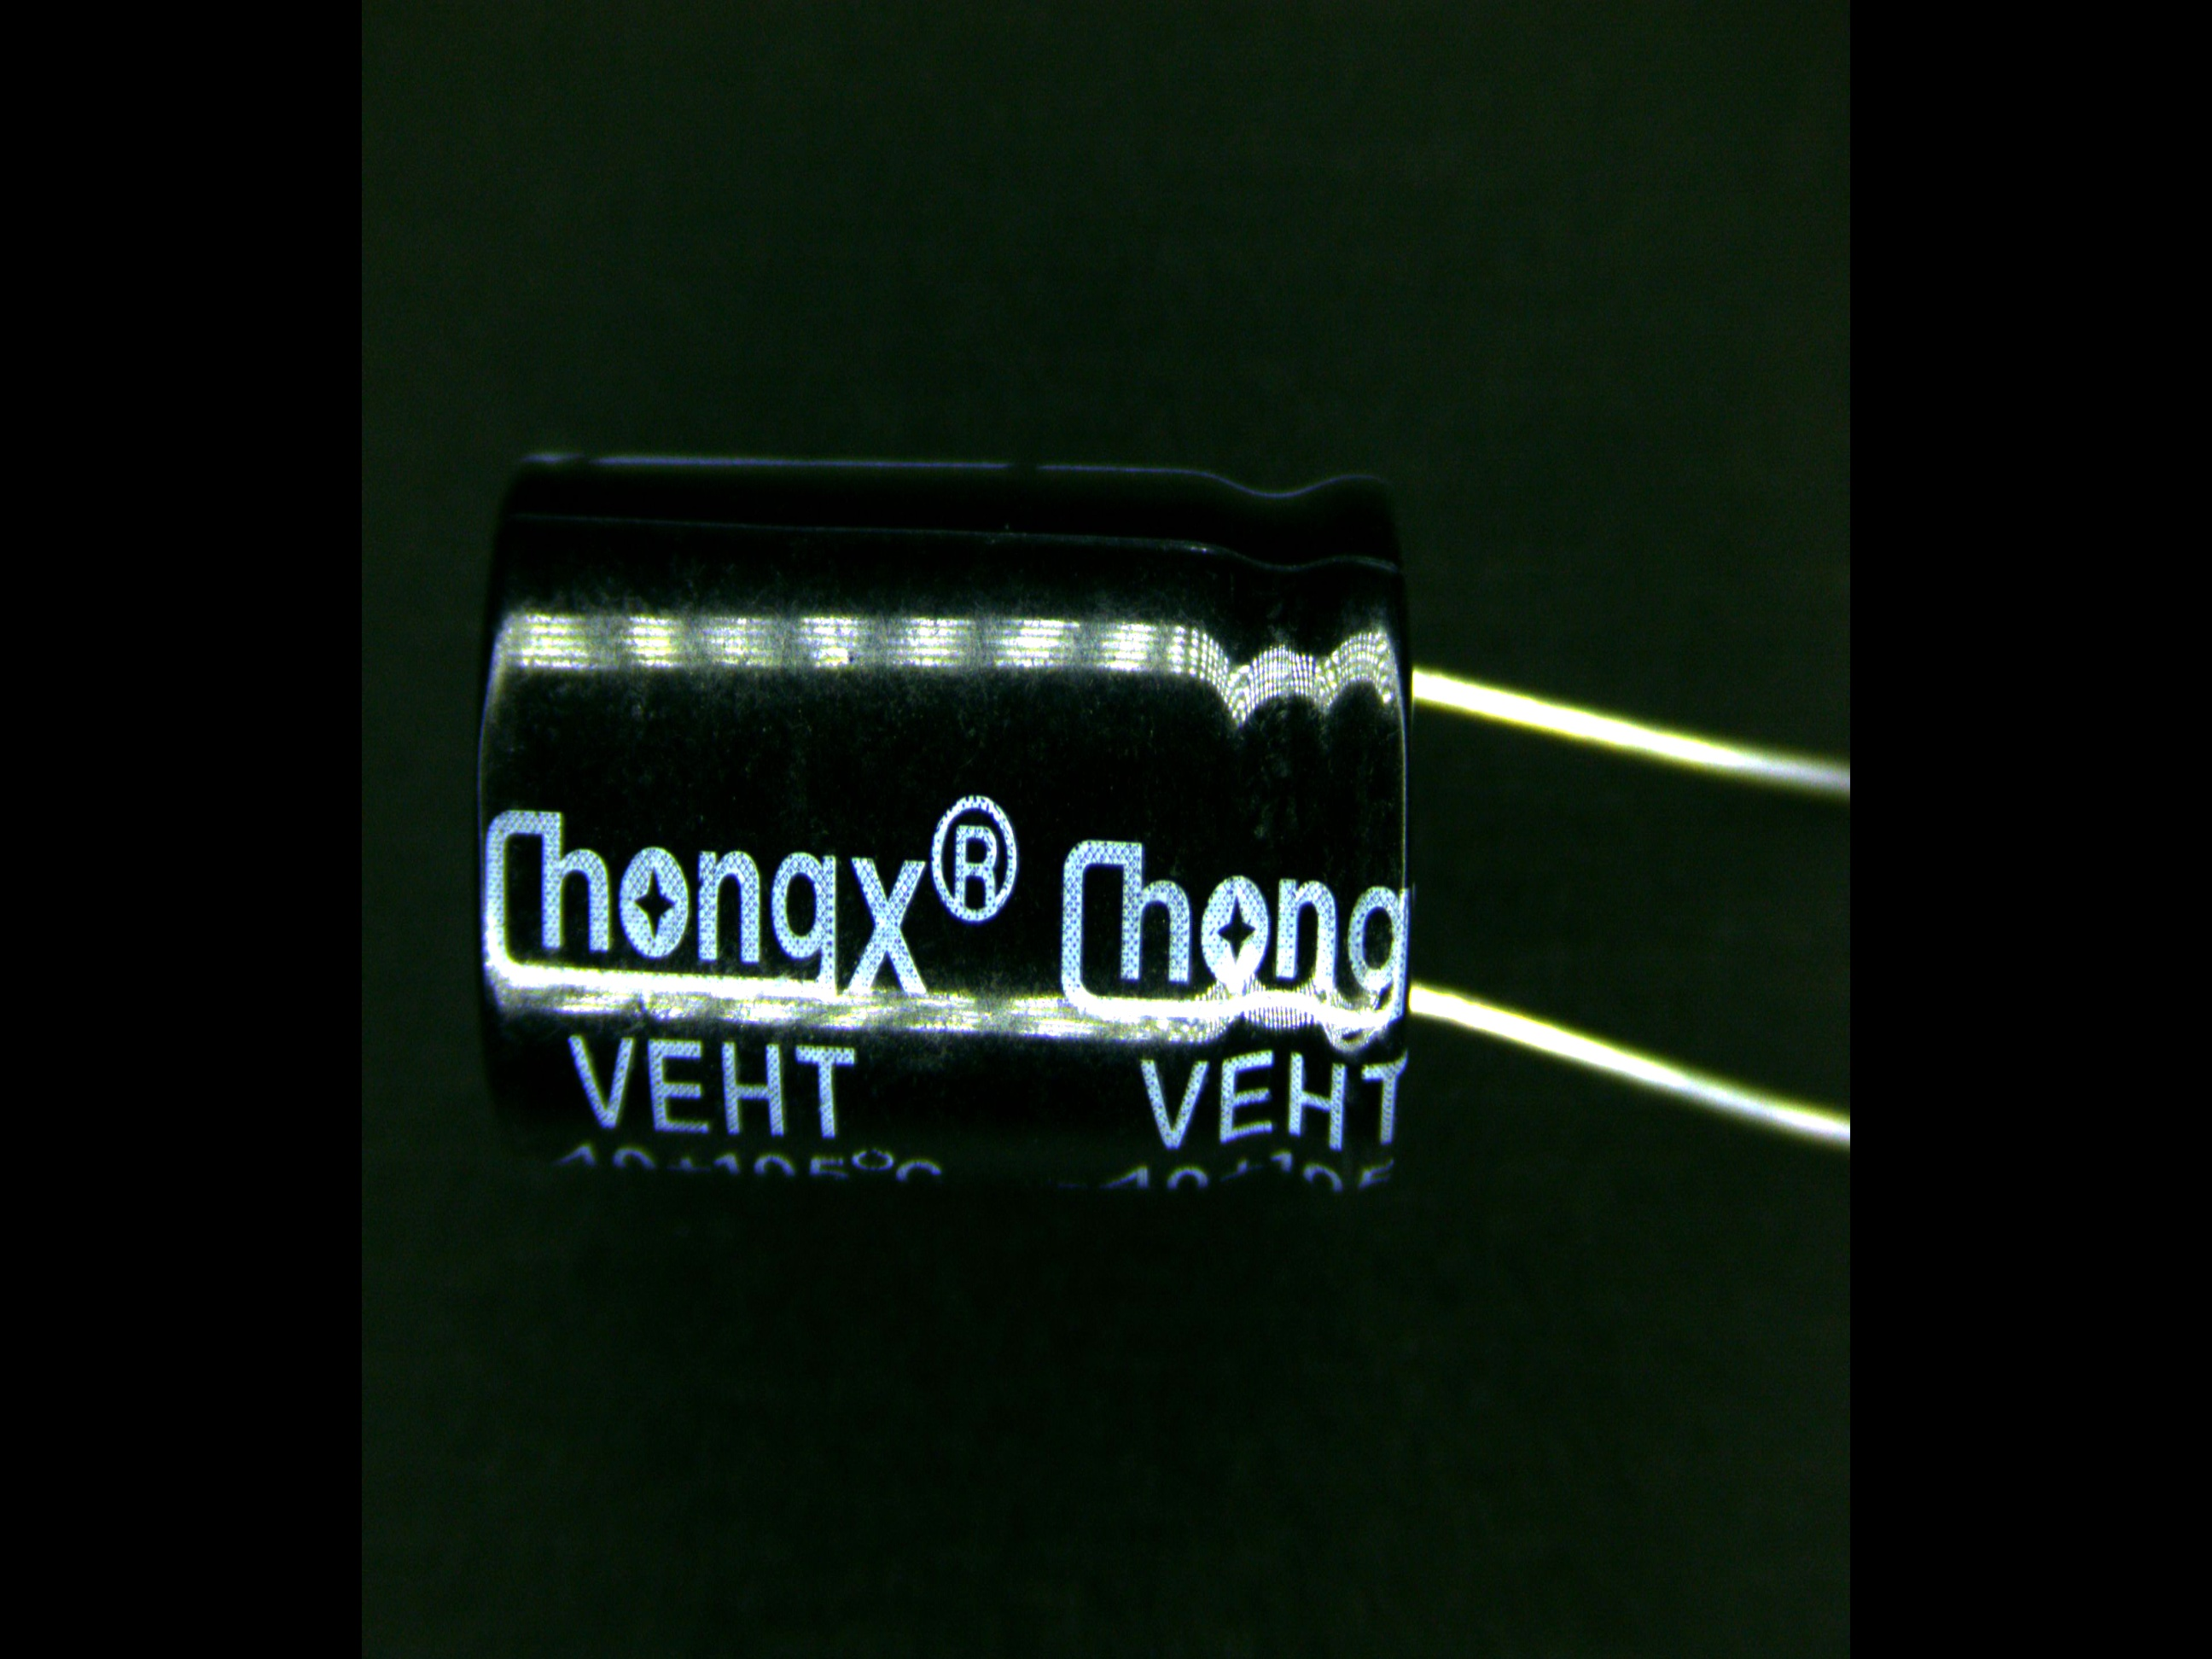c3: (469, 451, 1585, 1202)
